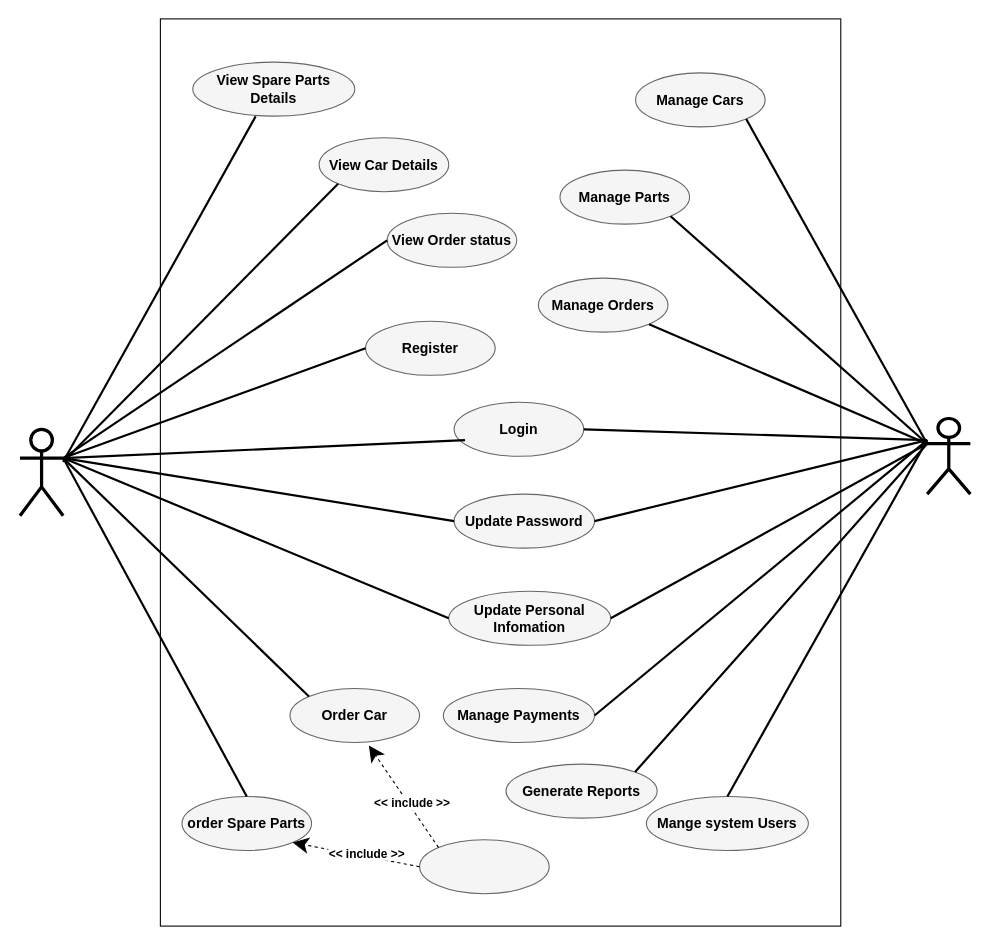
Image size: 991x945. Some labels were removed from this diagram. Here are the shapes that lost their labels. From the top down, the centre of each, then its label:
At (x=41, y=472): "Client".
At (x=948, y=455): "Admin".
At (x=483, y=866): "Generate Receipt".
